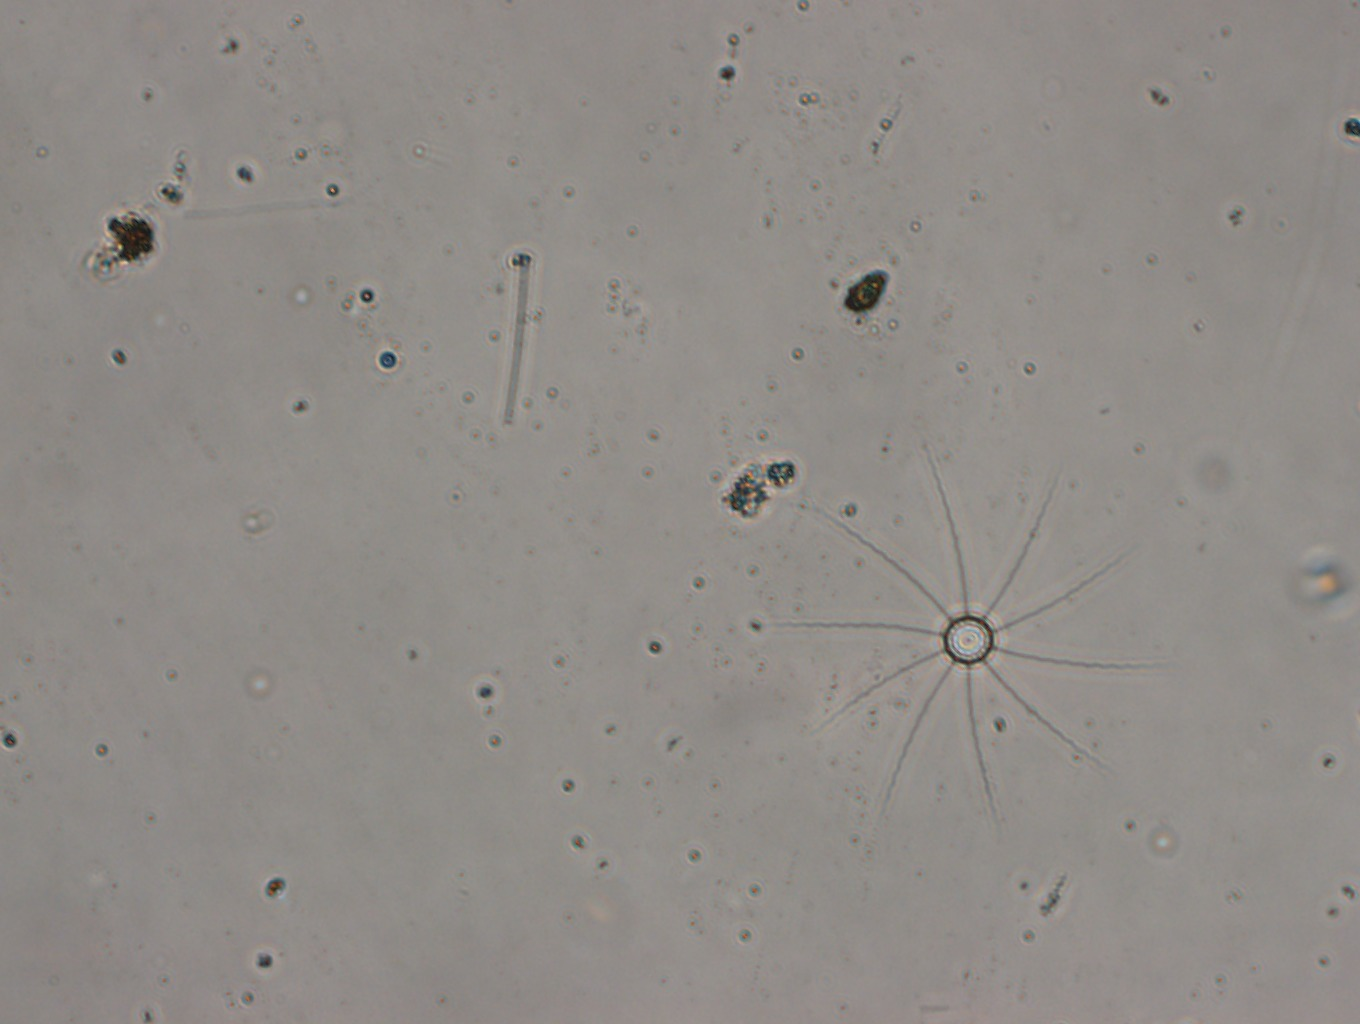bacteriastrum: (786, 465, 1155, 809)
